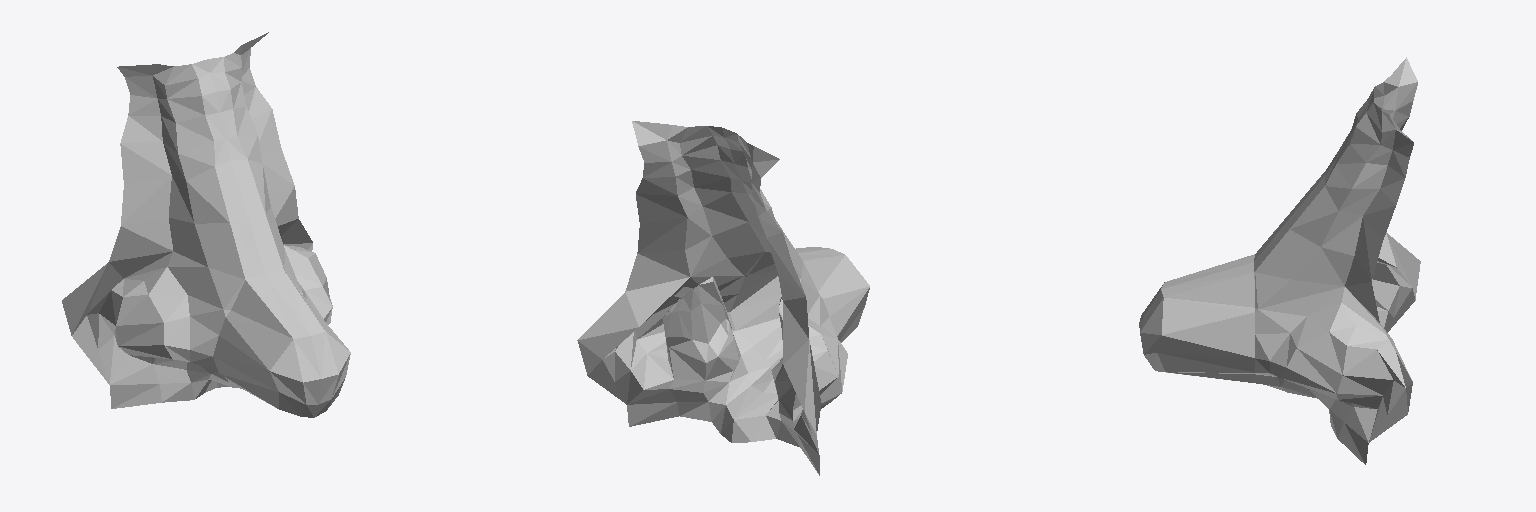
The model's file is nose1.obj.
3 views of the same model, side by side, from view 1: azimuth 30°, elevation 25°; view 2: azimuth 150°, elevation 25°; view 3: azimuth 270°, elevation 25° (orthographic).
Visible parts, largest first — view 1: object_1; view 2: object_1; view 3: object_1.
Part boxes in pixels (left/top/right/bottom): object_1: left=62, top=32, right=350, bottom=417; object_1: left=577, top=121, right=869, bottom=475; object_1: left=1139, top=57, right=1420, bottom=464.
Size of the model in its own units: 19.86 by 24.94 by 19.54.